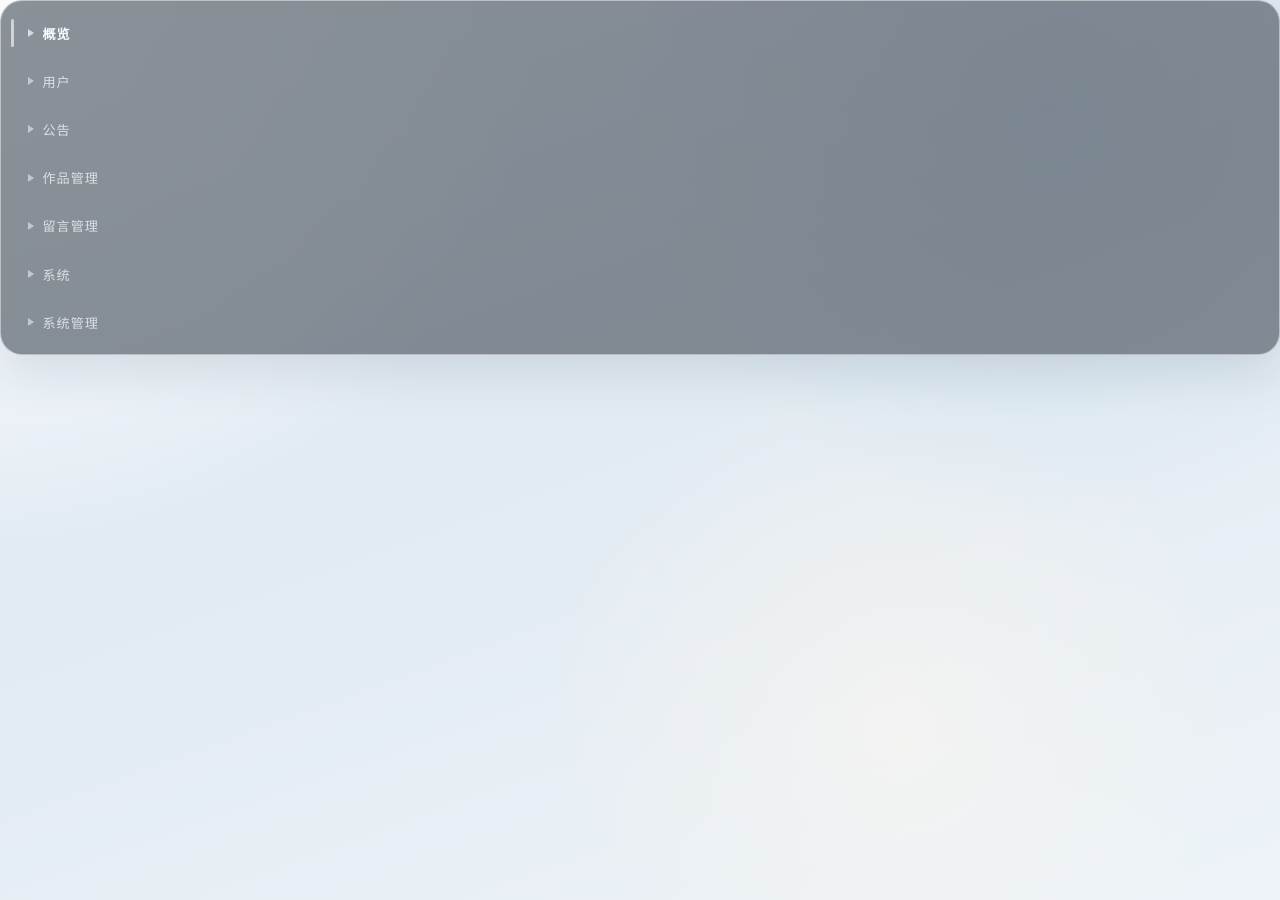
Scenario: AppSidebar 分组折叠 › 路由变化不改变折叠状态（不做激活联动）
The width and height of the screenshot is (1280, 900).
Click the button with class "app-sidebar__group-toggle" showing "作品管理". click: (71, 179)
box: x1=17 y1=162 x2=1253 y2=194
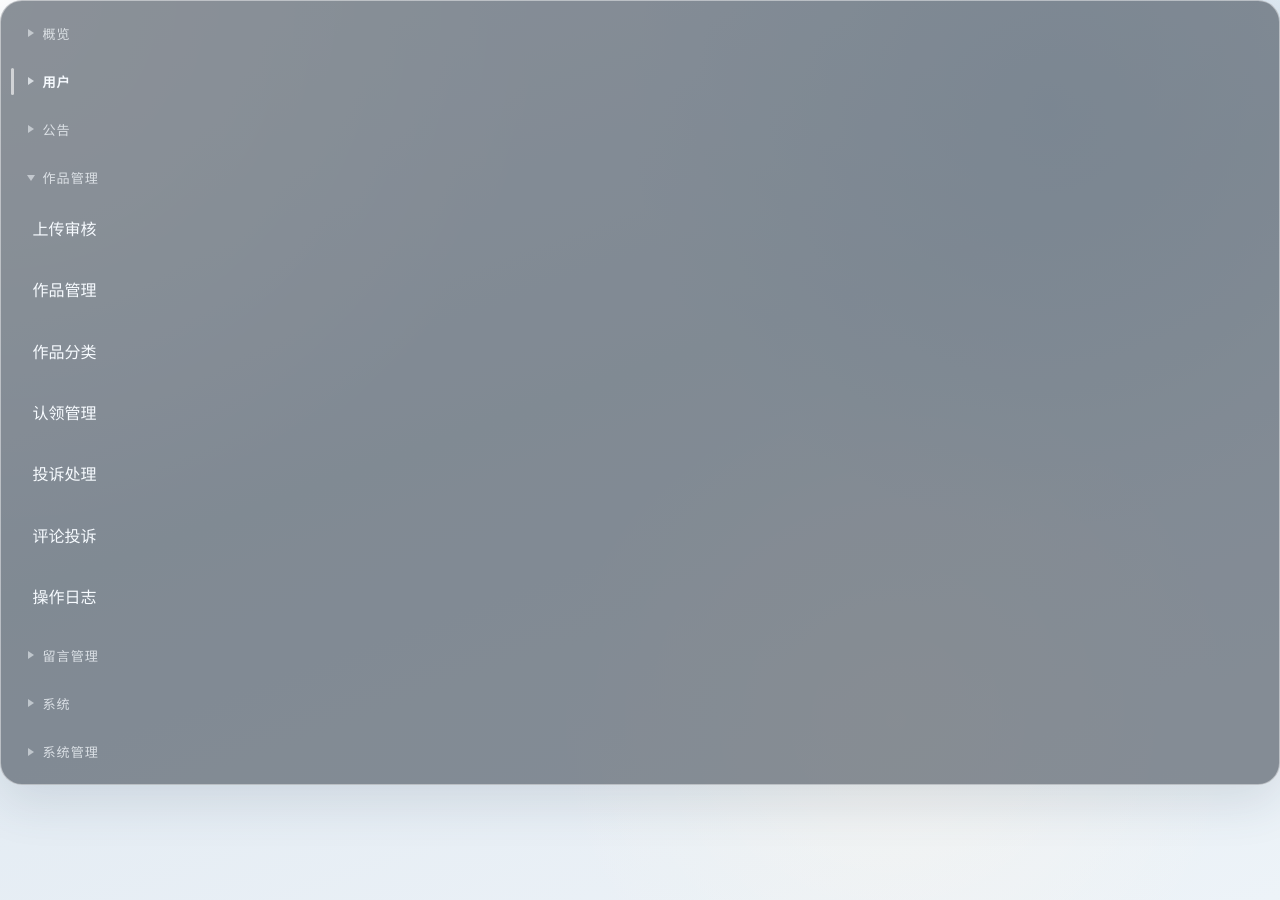
Expected: the button with class "app-sidebar__link" showing "上传审核" is shown, x1=17 y1=201 x2=1253 y2=255
